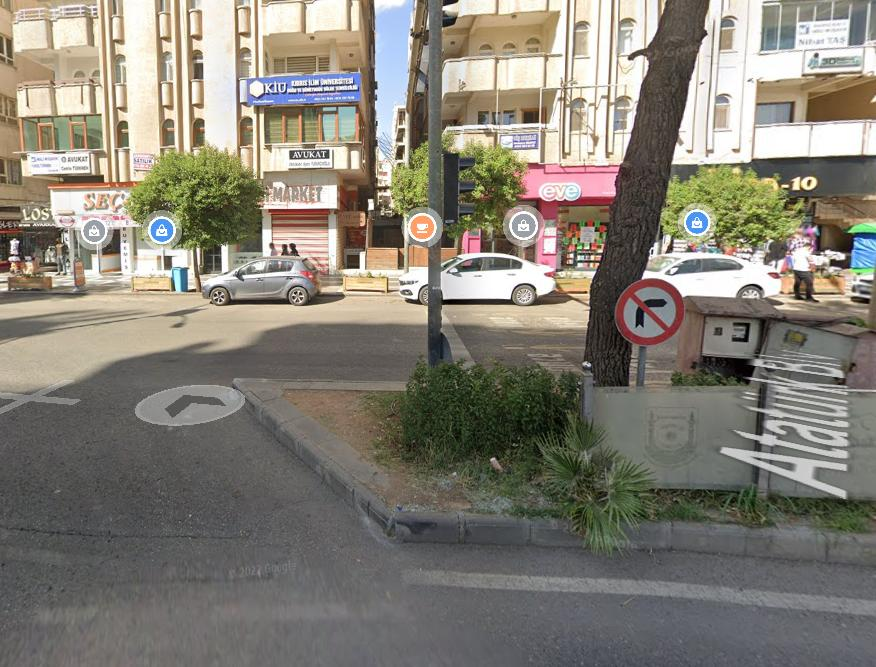rightturnsareforbidden: (621, 284, 677, 343)
